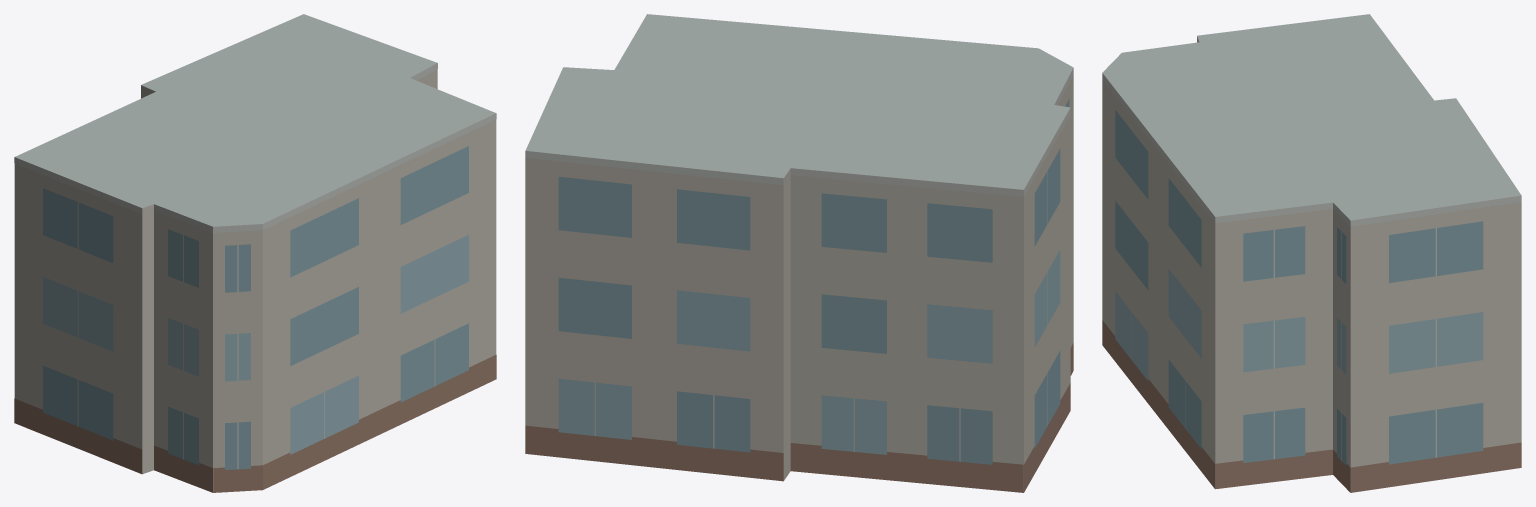
File: survey-upis-32985247.glb
3 views of the same model, side by side, from view 1: azimuth 30°, elevation 25°; view 2: azimuth 150°, elevation 25°; view 3: azimuth 270°, elevation 25° (orthographic). The views are drawn at different scales.
Visible parts, largest first — view 1: survey-upis-32985247.tmp; view 2: survey-upis-32985247.tmp; view 3: survey-upis-32985247.tmp.
Boxes of the visible parts, x1,y1,x2,y2 form: survey-upis-32985247.tmp: (14,14,496,492); survey-upis-32985247.tmp: (525,14,1073,492); survey-upis-32985247.tmp: (1102,14,1521,492).
Size of the model in its own units: 17.1 by 10.5 by 14.67.
